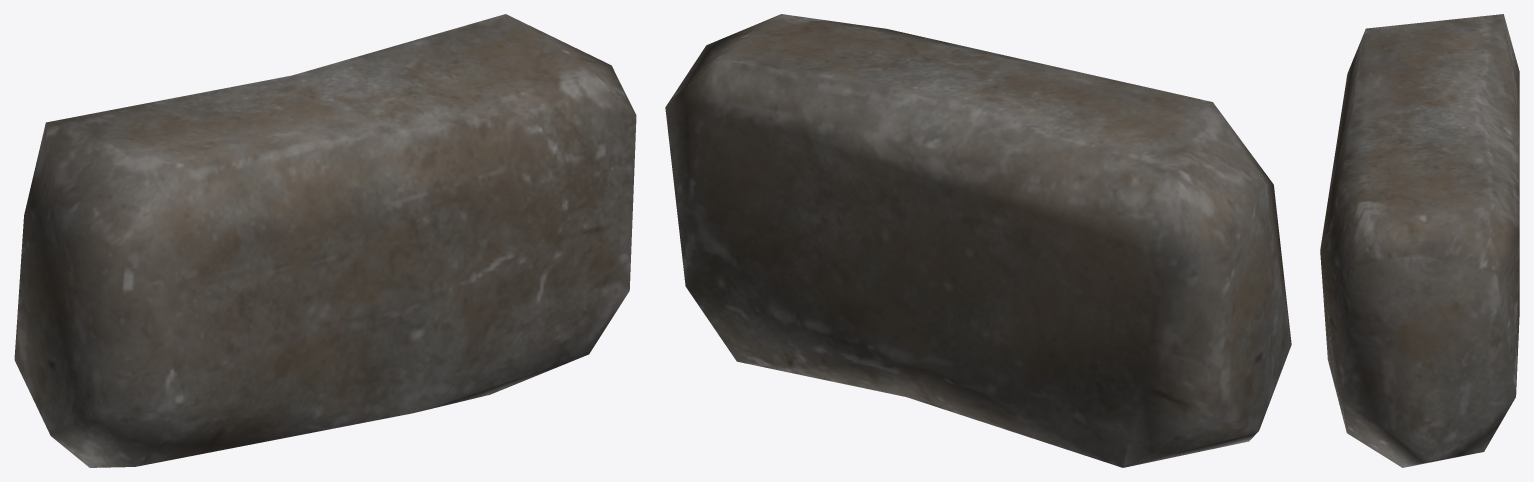
Rendered from SM_Brick_01.fbx.
The picture shows the model from 3 angles, left to right: view 1: azimuth 30°, elevation 25°; view 2: azimuth 150°, elevation 25°; view 3: azimuth 270°, elevation 25°; orthographic projection. The views are drawn at different scales.
Visible parts, largest first — view 1: SM_Brick_02; view 2: SM_Brick_02; view 3: SM_Brick_02.
Boxes of the visible parts, <box> form: SM_Brick_02: <box>14,14,636,467</box>; SM_Brick_02: <box>665,14,1291,467</box>; SM_Brick_02: <box>1320,14,1519,467</box>.
Bounding box in the file's own units: 29.93 × 15.6 × 10.93.
Materials: 1 (1 with a texture image).
